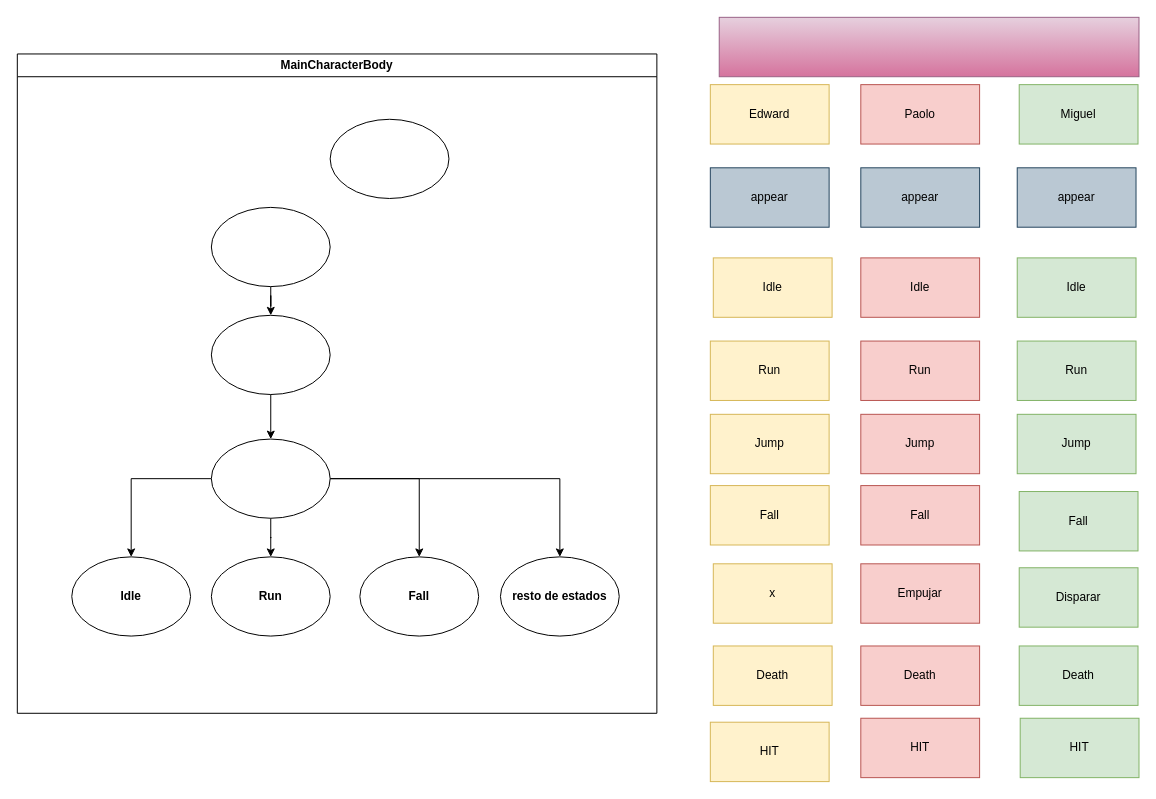
This 1156x799 diagram has some shape labels left out. Here are the shapes that lost their labels. From the top down, the centre of each, then its label:
At point (928, 46): "Sprite sheet".
At point (389, 158): "State Machine".
At point (270, 246): "State Base".
At point (270, 354): "Player State Base".
At point (270, 478): "Player State Gravity".
